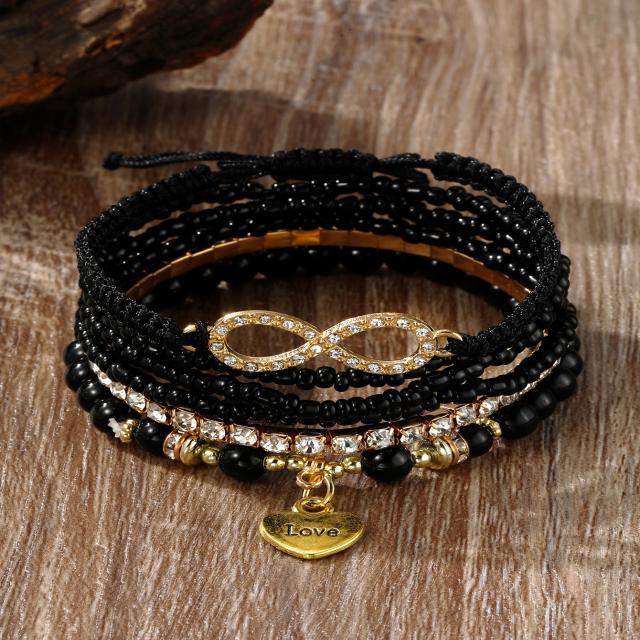bracelet: (24, 67, 623, 583)
